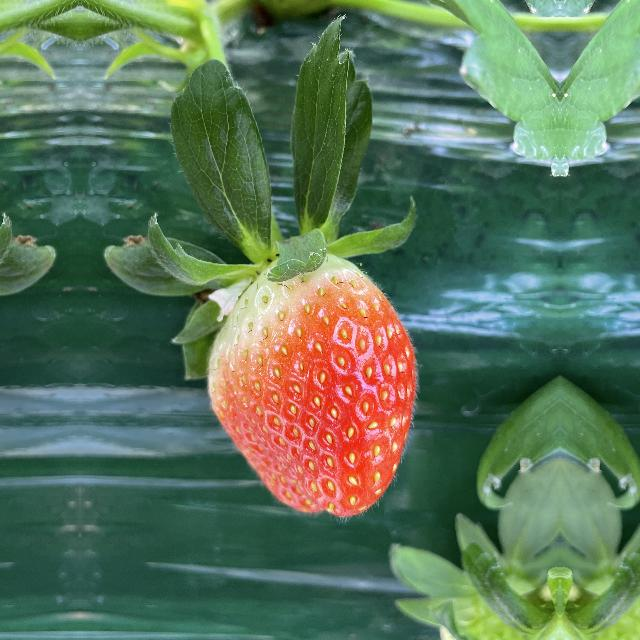Health_100: (194, 255, 428, 521)
